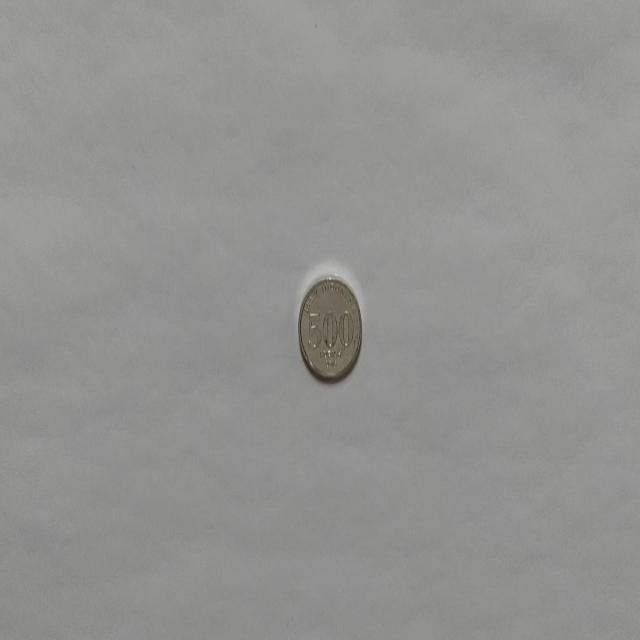lima ratus rupiah: (297, 272, 363, 382)
